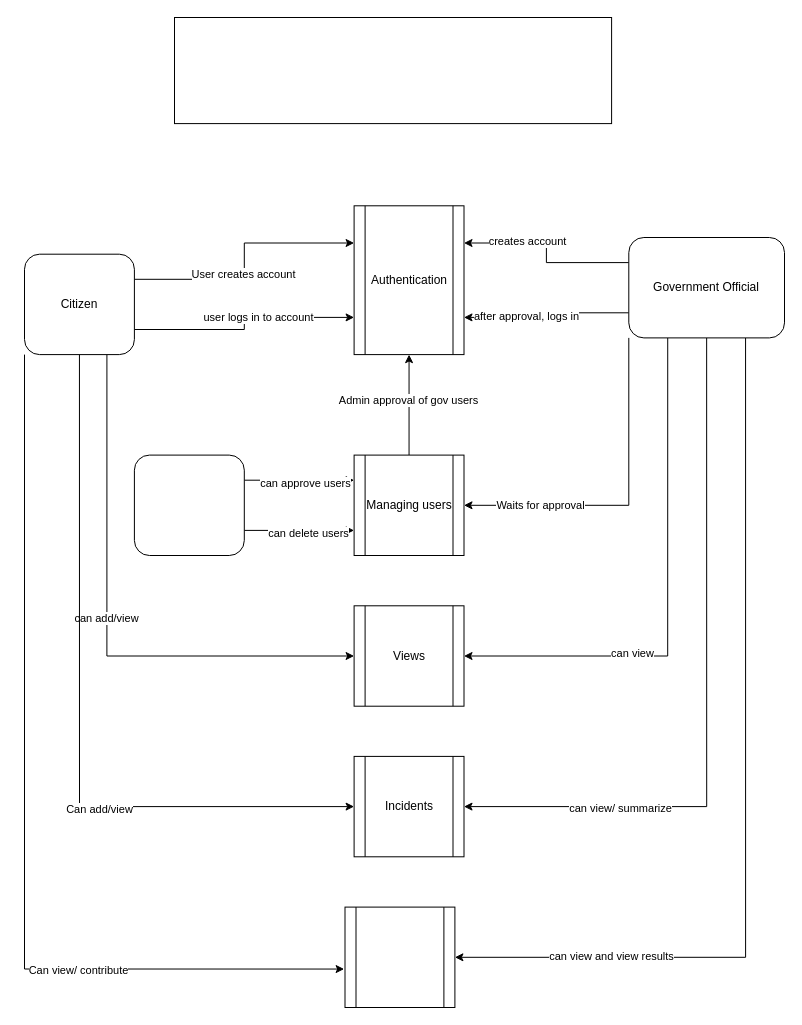
Some shapes in this 802 by 1025 pixel diagram are drawn without their labels. Here are the shapes that lost their labels. From the top down, the box of each, then its label:
(174, 16, 612, 124): Level 1
(133, 454, 244, 556): Admin
(344, 906, 455, 1008): Polls
